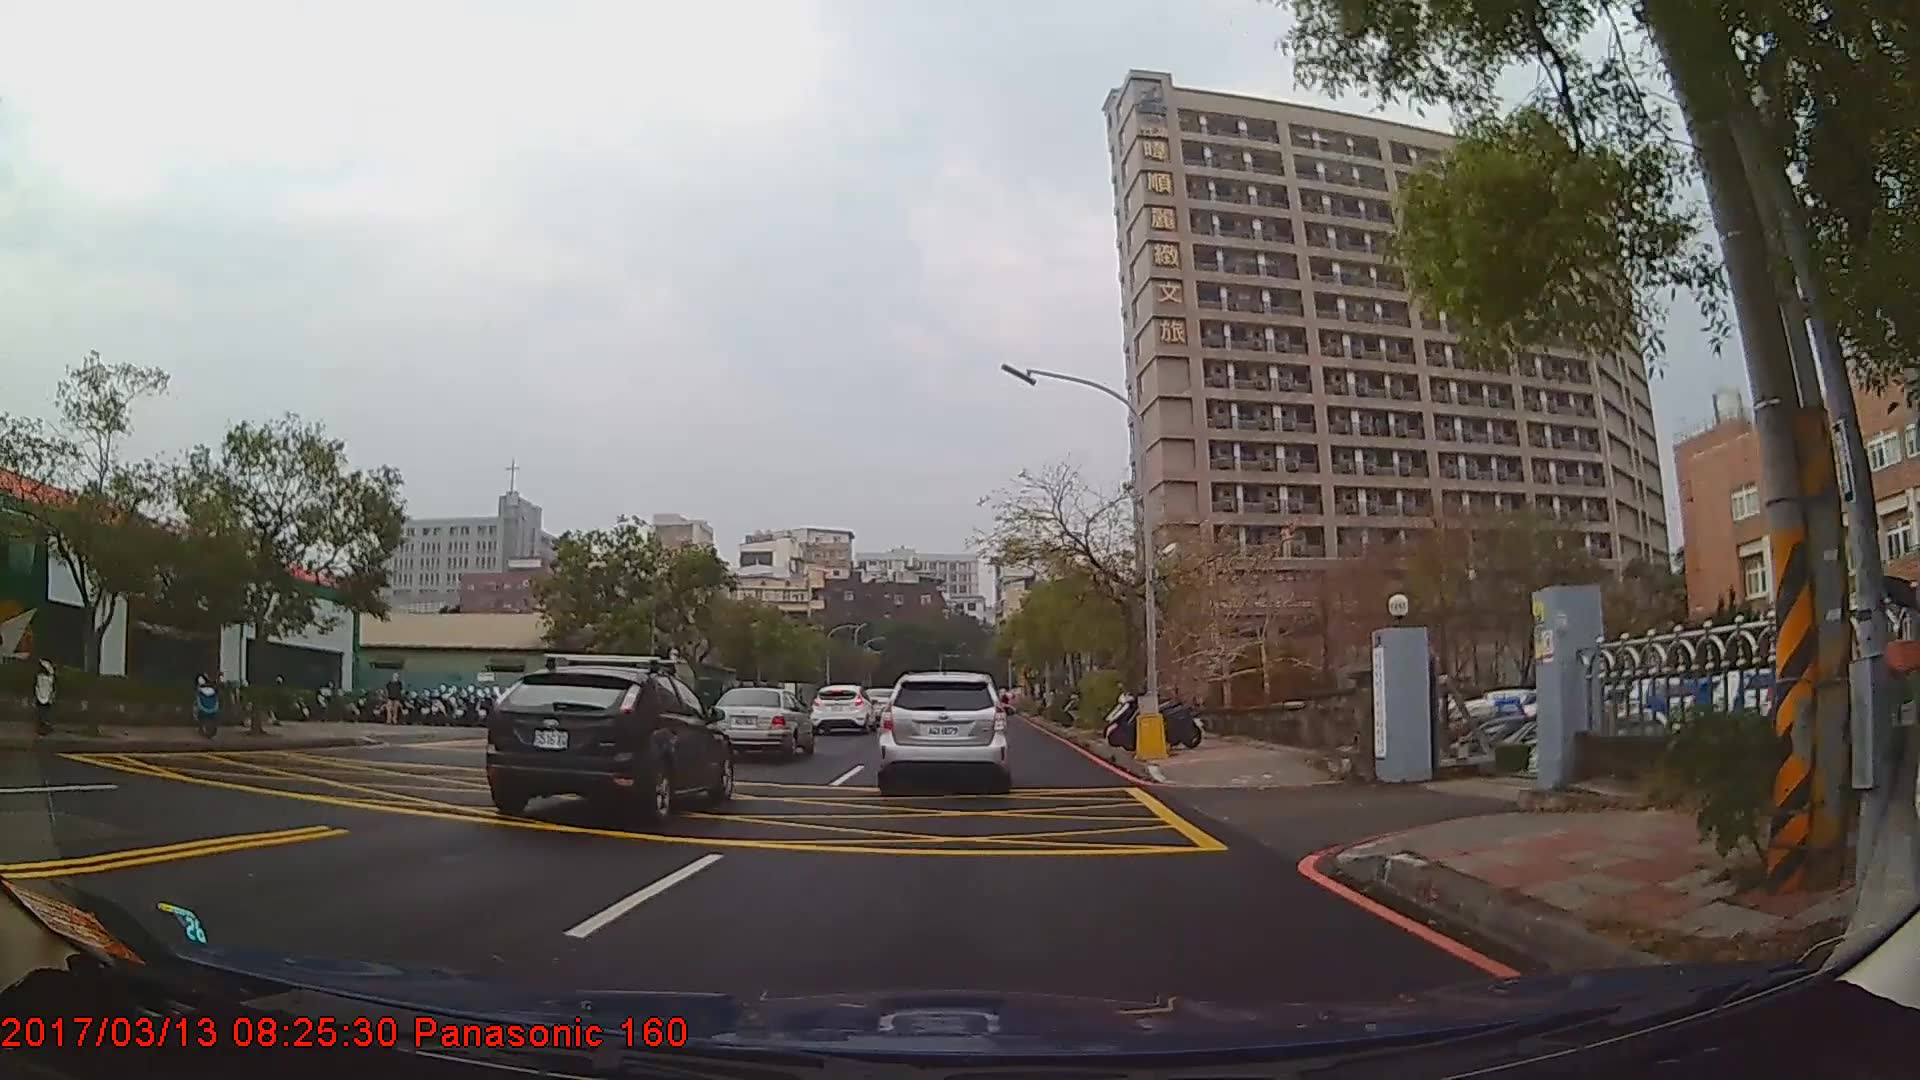pedestrian: (386, 674, 406, 727)
vehicle: (482, 665, 731, 822), (878, 672, 1006, 790), (0, 503, 48, 717), (709, 685, 814, 760), (810, 681, 876, 733)
